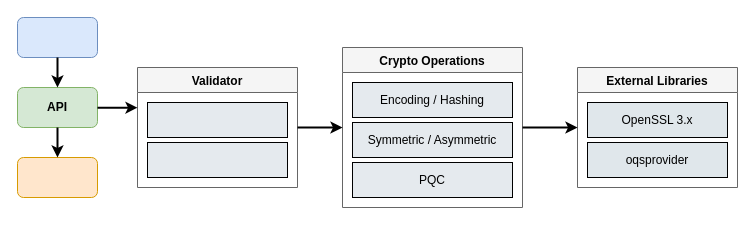
The diagram is 755 pixels wide and 225 high, and some of its shapes have lost their labels. The centre of each missing label's shape, as x and y in pixels:
"Command Allowlist" goes at point 217,160.
"Input" goes at point 57,37.
"Input Sanitization" goes at point 217,120.
"Output" goes at point 57,177.
